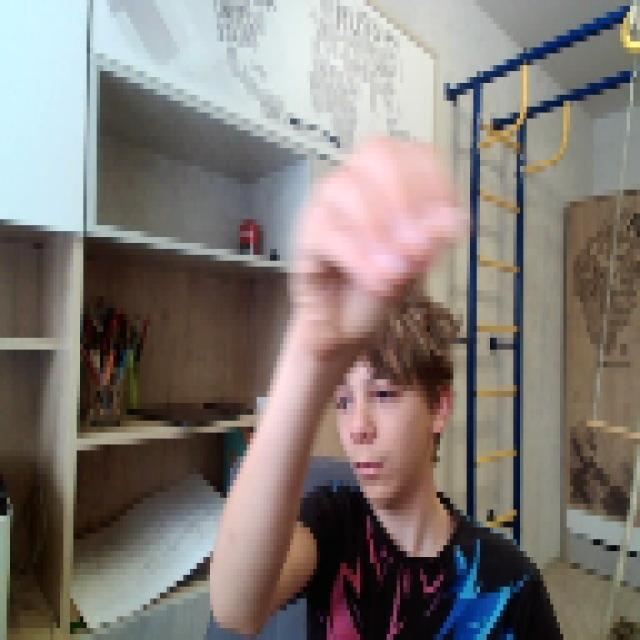left_click: (280, 125, 460, 362)
